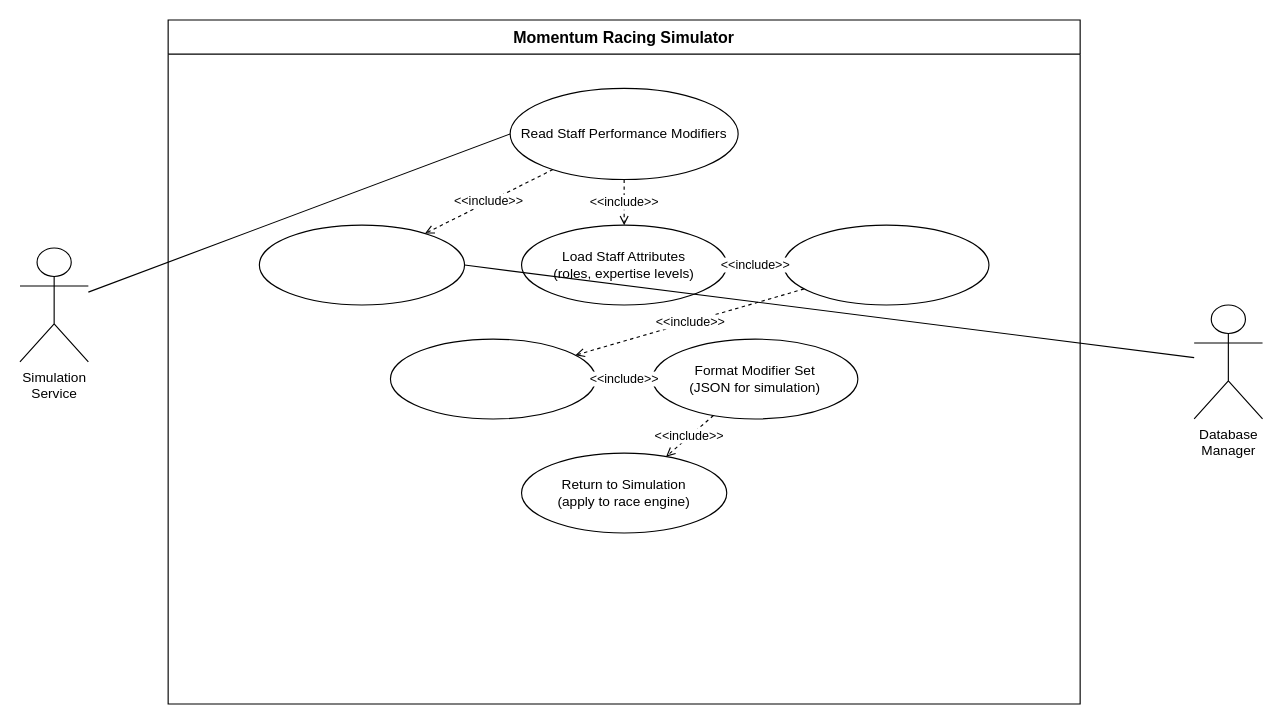
This 1283x724 diagram has some shape labels left out. Each missing label, with the centre of its shape:
Aggregate Performance Modifiers (mechanic, strategist, engineer): pixel 886 264
Calculate Team Multipliers (combined staff effect): pixel 492 378
Query Staff Assignments (by team_id): pixel 361 264
